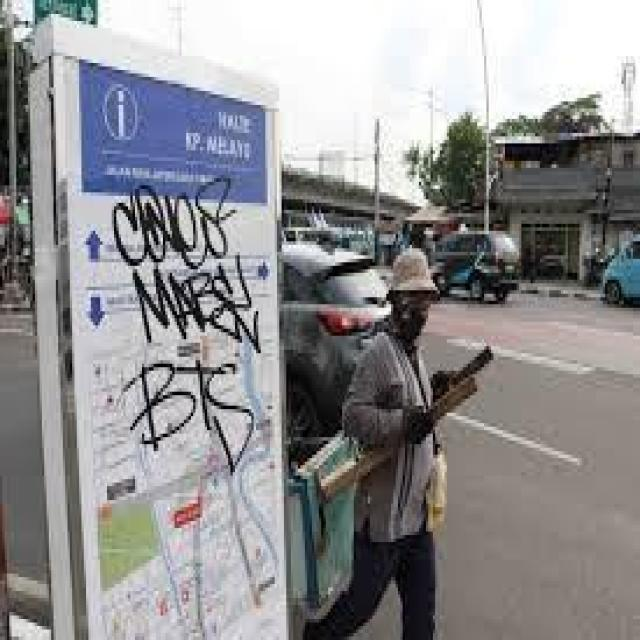nonspitting: (111, 171, 262, 480)
